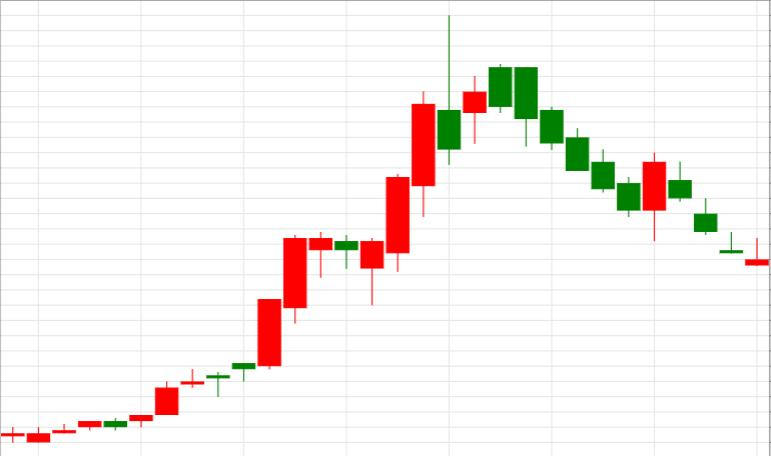shooting_star_fall: (258, 14, 461, 370)
